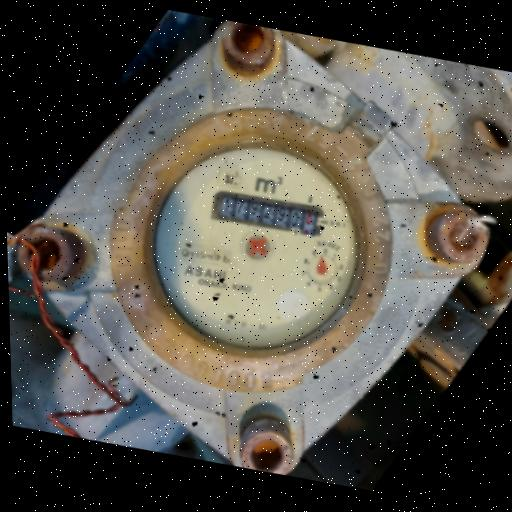0: (288, 205, 303, 228)
1: (218, 194, 235, 216)
2: (261, 201, 275, 223)
7: (233, 196, 248, 219)
8: (300, 209, 315, 235)
9: (275, 203, 289, 226), (248, 199, 261, 221)
border_water_meter_number: (209, 184, 327, 242)
